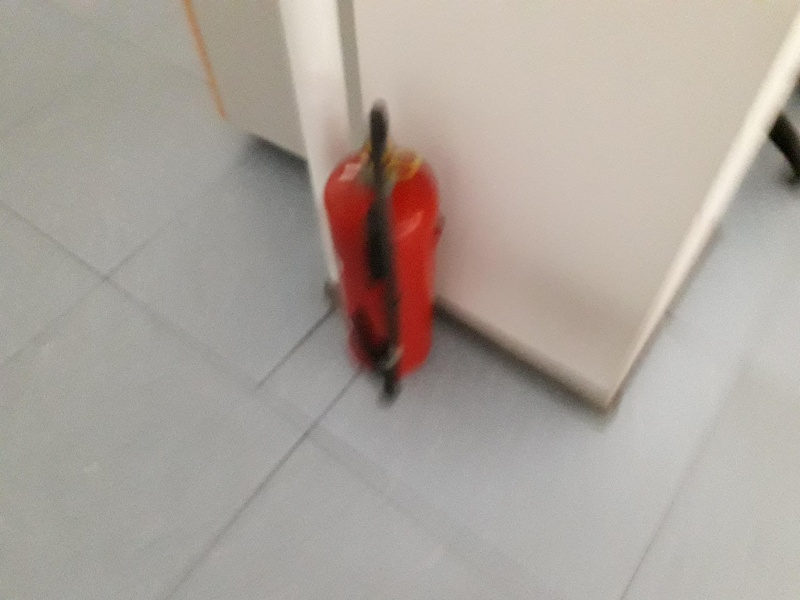vataparat: (323, 98, 434, 403)
